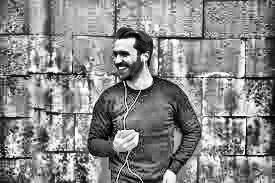happy: (107, 24, 163, 93)
